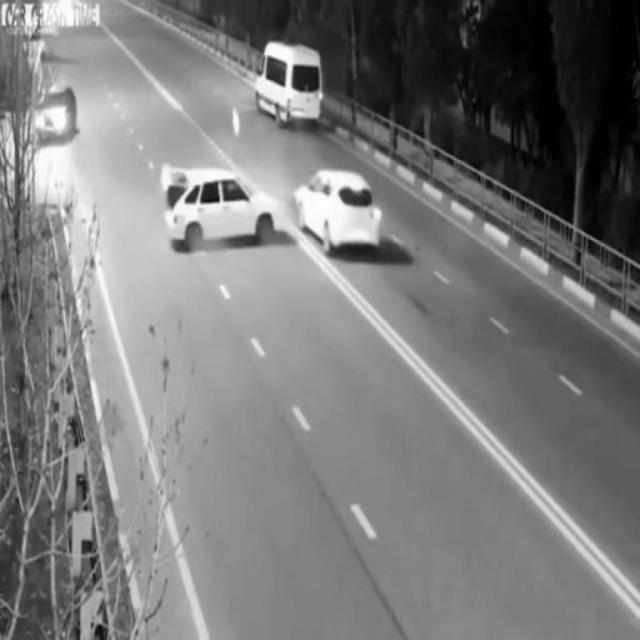vehicle: (155, 165, 273, 263), (293, 170, 377, 252), (259, 45, 323, 119), (38, 88, 78, 139)
